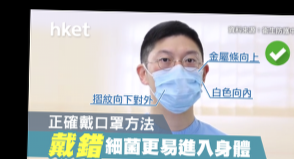with_mask: (146, 46, 202, 112)
